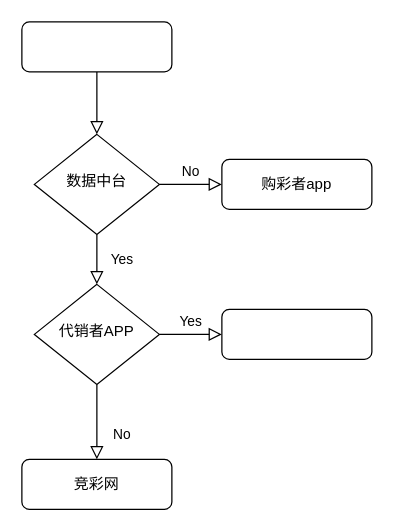
The diagram is 394 pixels wide and 531 high, and some of its shapes have lost their labels. The centre of each missing label's shape, as x and y in pixels:
体彩网: point 296,333
开放平台: point 96,46
